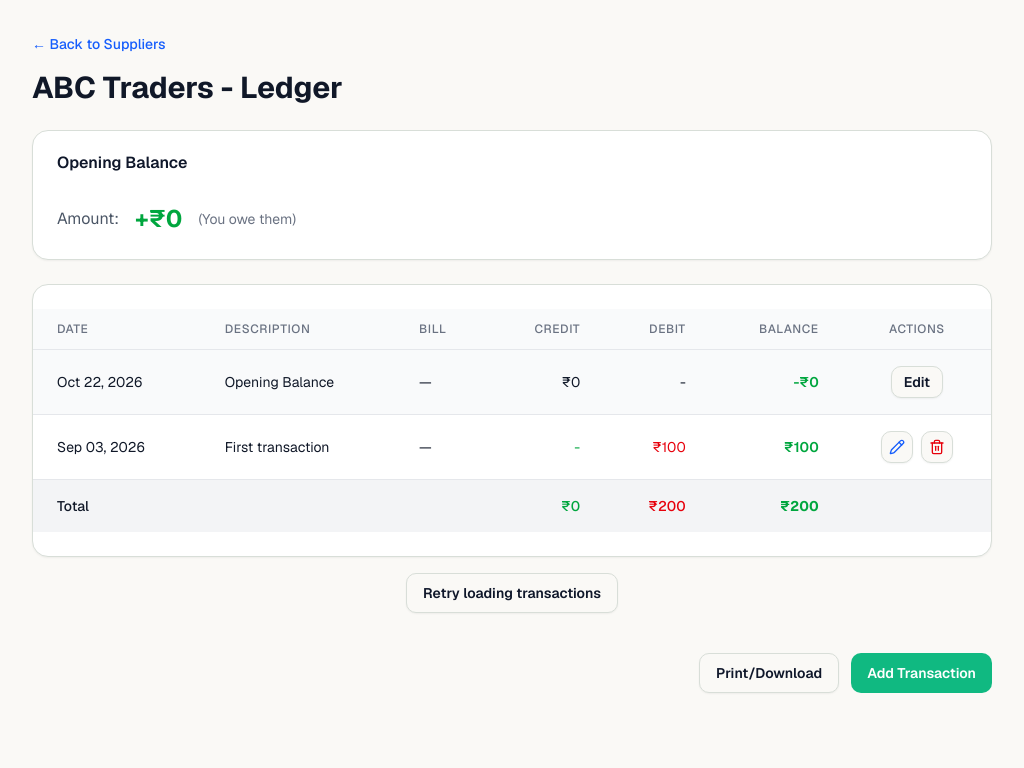
Test: Ledger scroll loading › loads only the first batch until scrolling, retries failed pages, and stops at the end
The width and height of the screenshot is (1024, 768).
Expected: the text "First transaction" is shown, [201,414,395,480]
Click the button "Retry loading transactions": (512,593) [406,573,618,613]
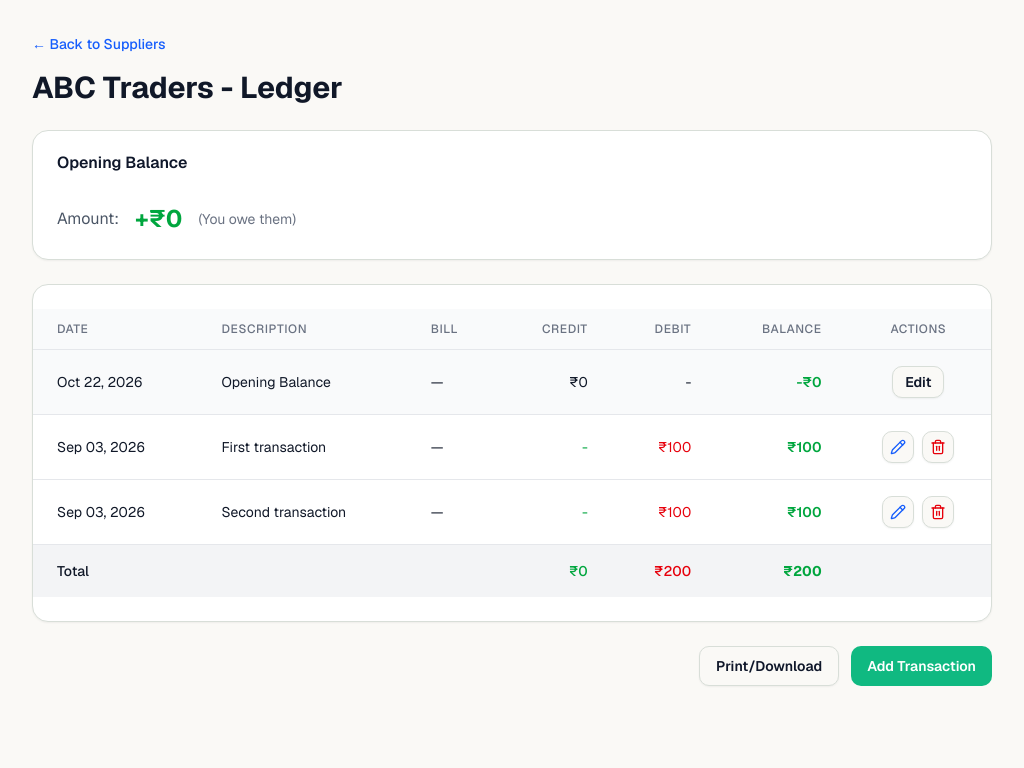
Expected: the text "First transaction" is shown, [198,414,407,480]
Expected: the text "Second transaction" is shown, [198,480,407,544]
